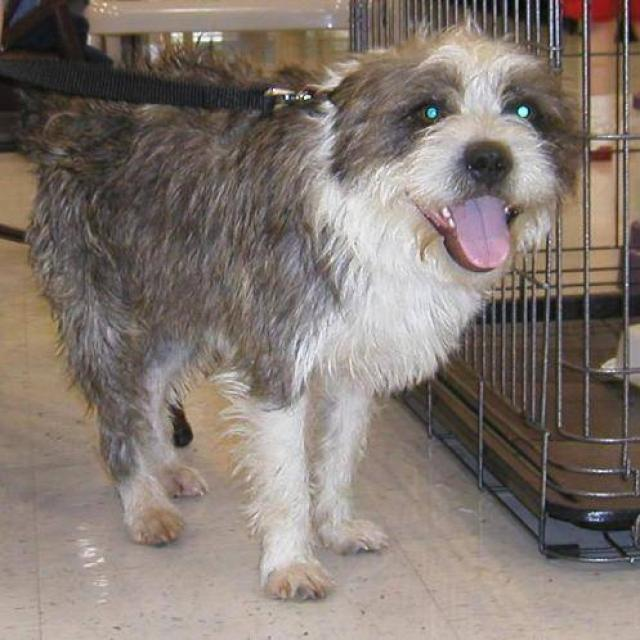dog: (7, 11, 591, 602)
